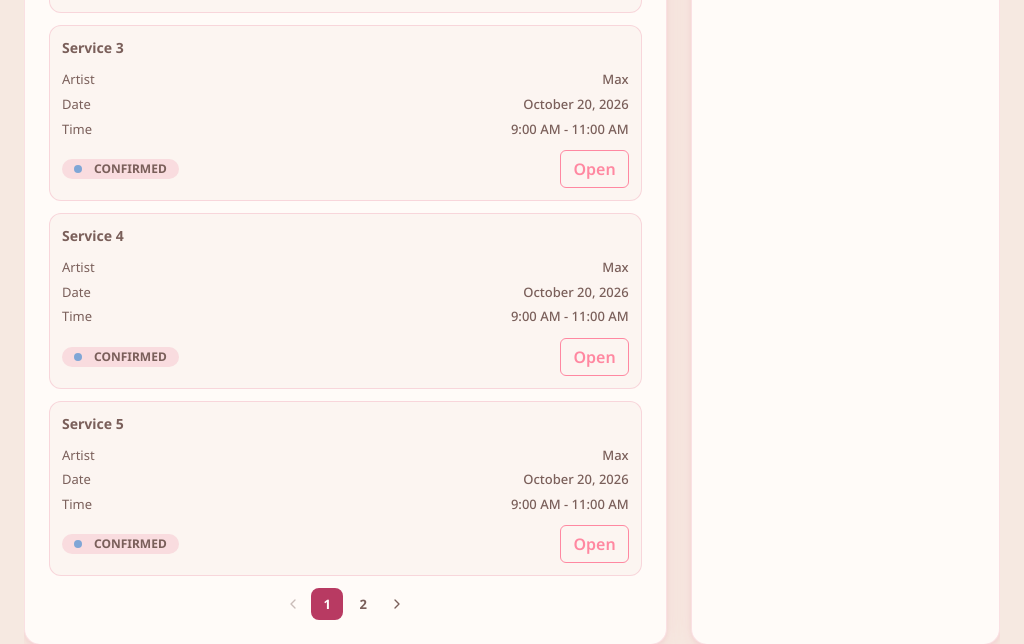
Test case: My appointments › starts the phone cards on the first page when switching tabs
(page scrolled)
Click the button named "Next page": point(397, 604) top-left (383, 590), bottom-right (411, 618)
(page scrolled)
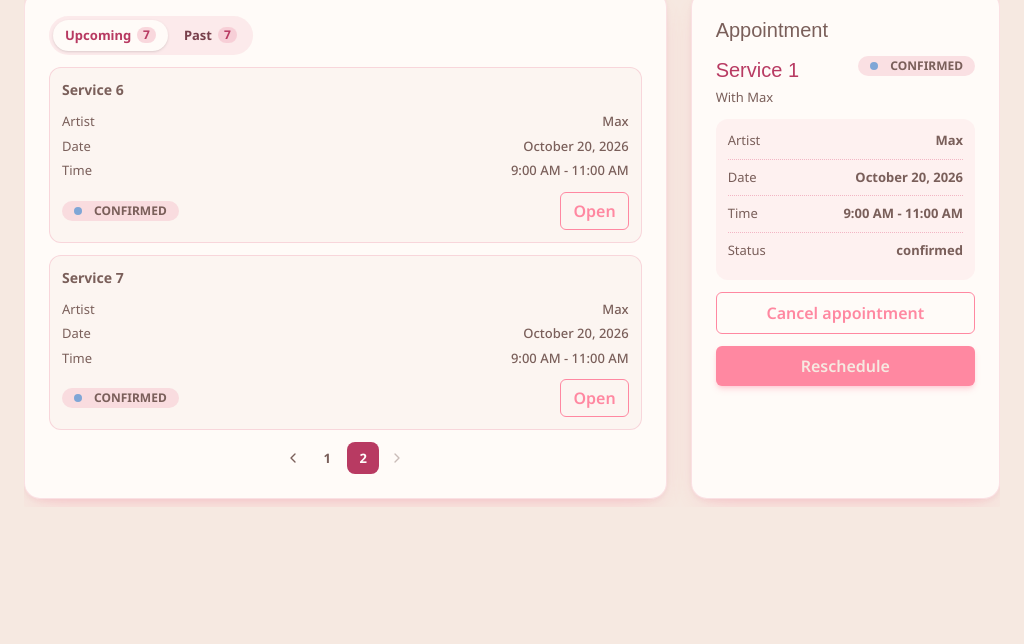
Expected: the text "Service 6" is shown, top-left (62, 80), bottom-right (124, 99)
Click the tab "Past 7": point(210, 35) top-left (172, 20), bottom-right (249, 51)
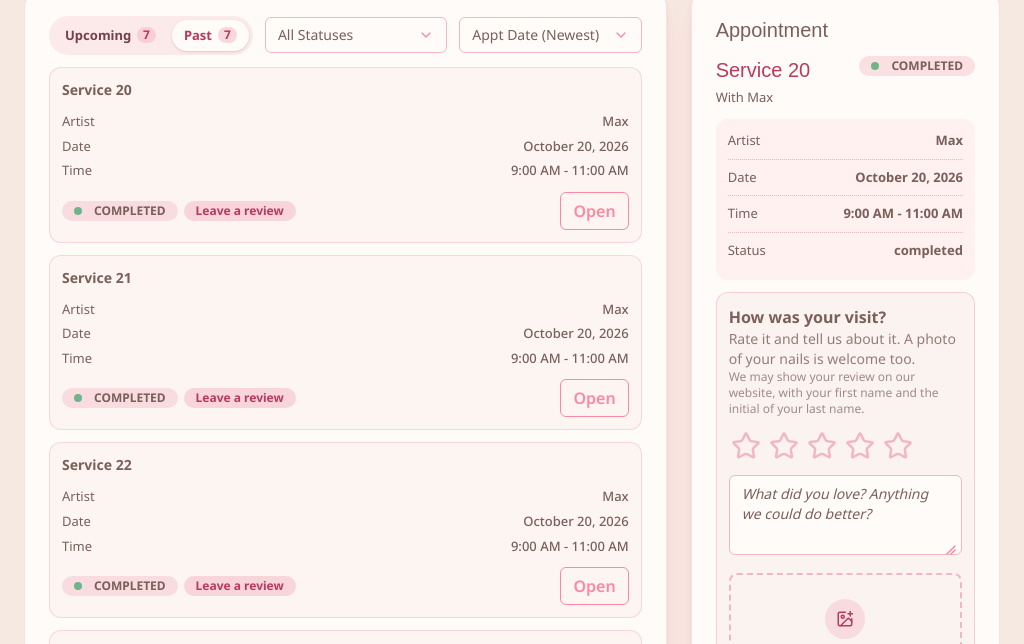
Expected: the 2nd text "Service 20" is shown, top-left (62, 80), bottom-right (132, 99)
